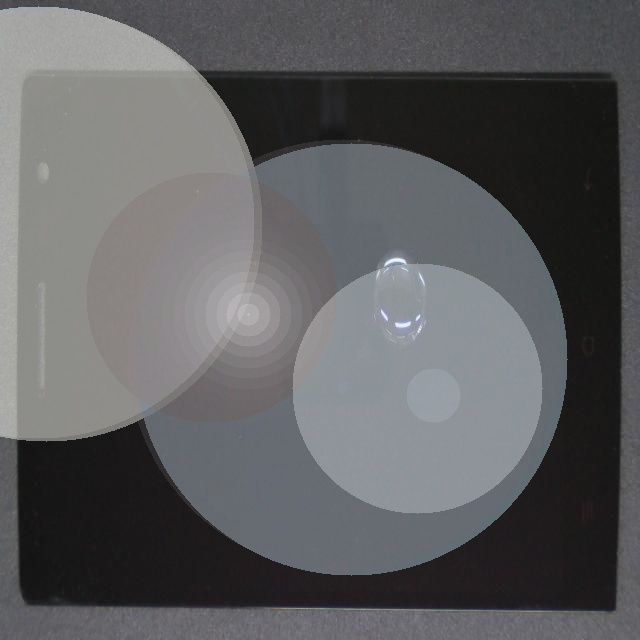oil: (207, 86, 573, 416)
